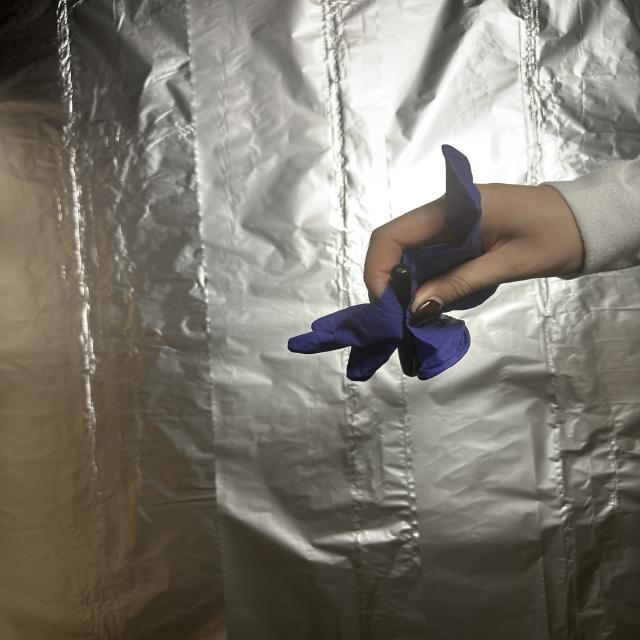glove_not_fitted: (286, 142, 589, 384)
